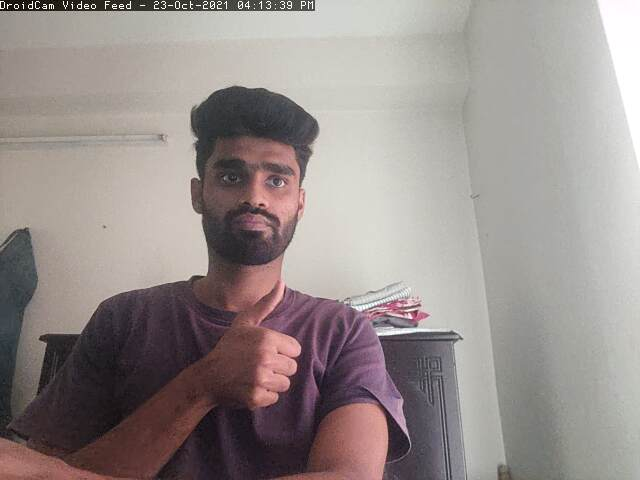ThumbsUp: (222, 281, 301, 411)
